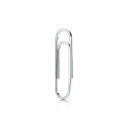Metal: (40, 21, 81, 108)
